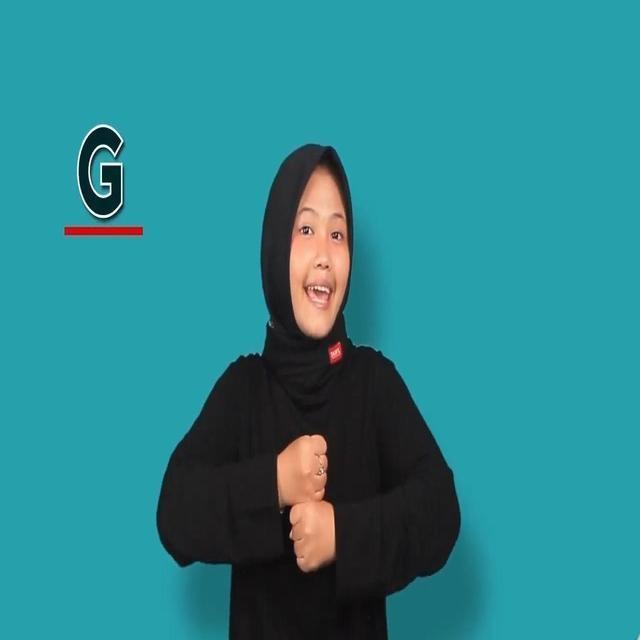G: (270, 428, 360, 584)
